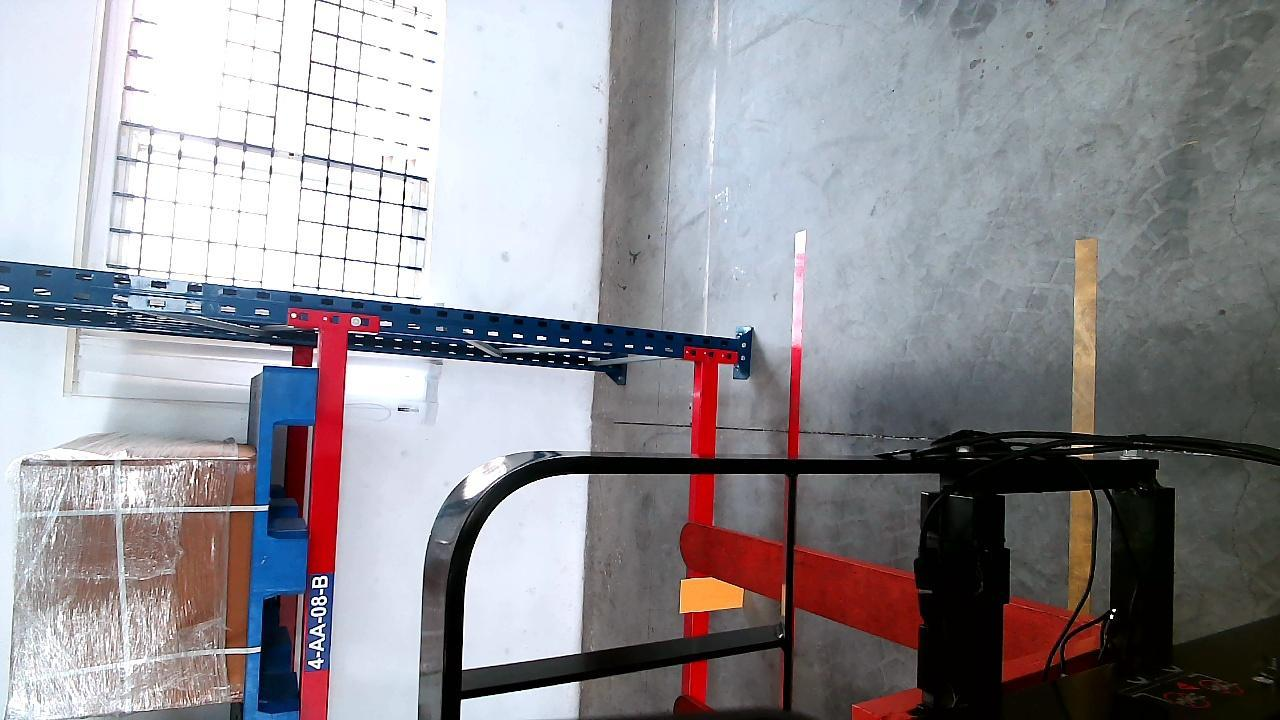red_line: (786, 218, 808, 476)
yellow_line: (1073, 234, 1095, 439)
